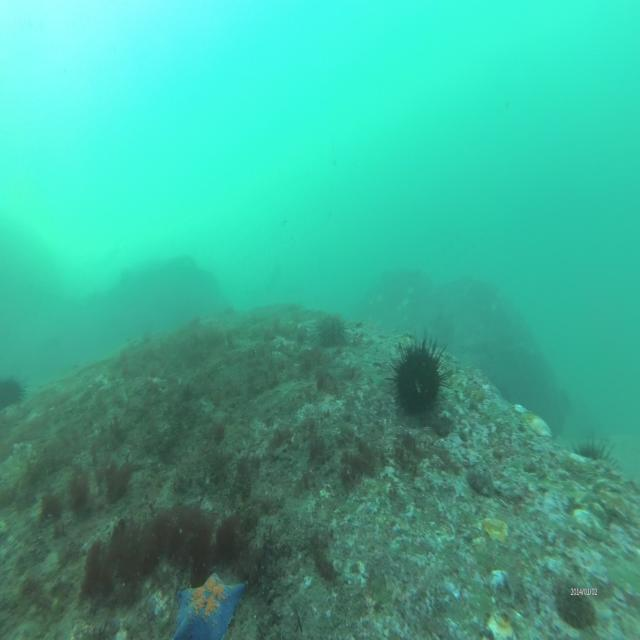echinus: (388, 334, 451, 424), (574, 434, 616, 468), (320, 311, 349, 348), (1, 371, 27, 412)
starfish: (174, 572, 245, 640)
